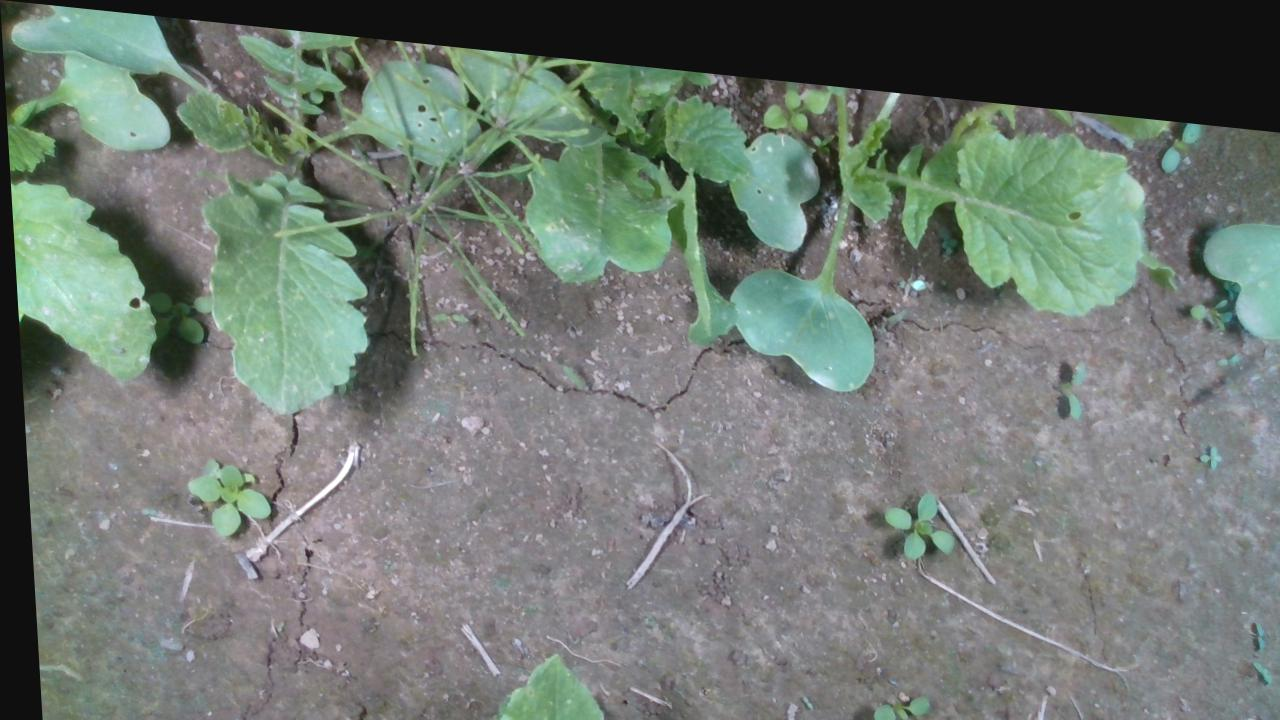weed: (853, 667, 932, 715)
